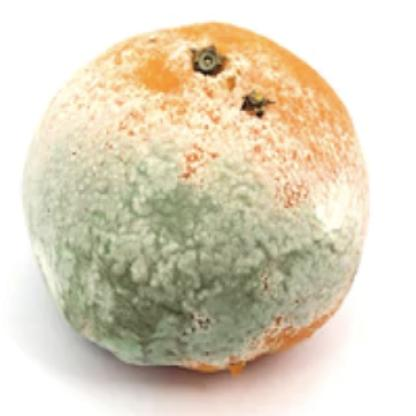rotten: (31, 22, 370, 371)
